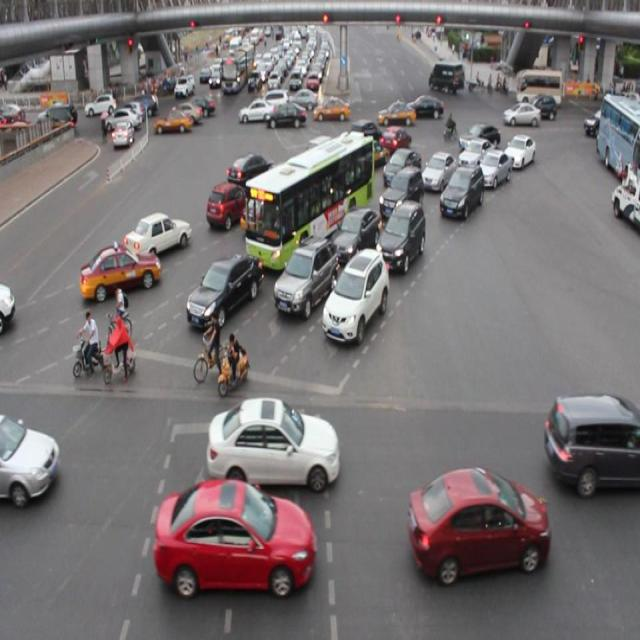car: (155, 478, 313, 592), (408, 466, 547, 571), (207, 395, 337, 488), (322, 246, 387, 344), (0, 416, 60, 506), (187, 253, 261, 324), (274, 237, 337, 315), (80, 243, 162, 297), (378, 199, 425, 269), (329, 206, 382, 264), (126, 213, 191, 255), (440, 164, 483, 219), (378, 167, 423, 218), (206, 183, 251, 227), (269, 160, 311, 203), (240, 194, 283, 235), (320, 156, 365, 195), (228, 154, 274, 190), (382, 148, 420, 190), (421, 150, 457, 190), (458, 122, 499, 157), (456, 137, 492, 175), (345, 119, 382, 154), (476, 150, 508, 190), (503, 134, 534, 172), (376, 125, 410, 159), (351, 138, 387, 168), (1, 283, 16, 333)
truck: (547, 390, 640, 488), (300, 136, 342, 177)
van: (246, 136, 372, 272)
